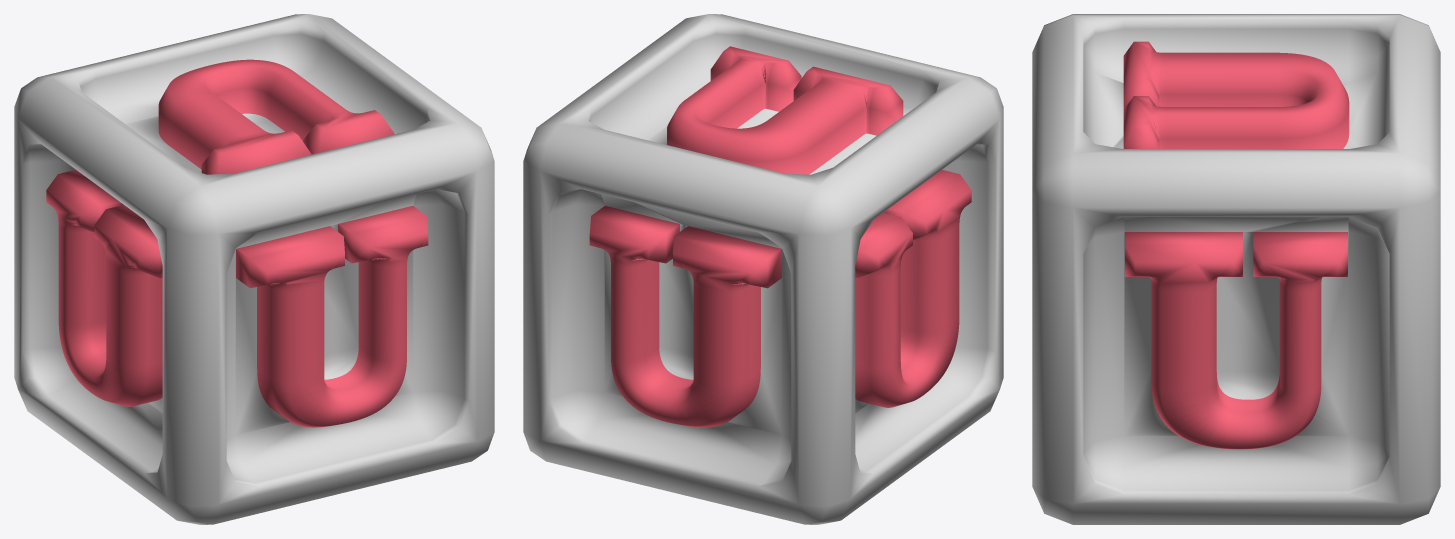
The picture shows the model from 3 angles, left to right: view 1: azimuth 30°, elevation 25°; view 2: azimuth 150°, elevation 25°; view 3: azimuth 270°, elevation 25°; orthographic projection. The views are drawn at different scales.
Parts seen in each view (by area): view 1: obj_0; view 2: obj_0; view 3: obj_0.
Part boxes in pixels (x1,y1,x2,y2): obj_0: (14,14,494,524); obj_0: (523,14,1003,524); obj_0: (1032,14,1440,524).
Size of the model in its own units: 100 by 100 by 100.
